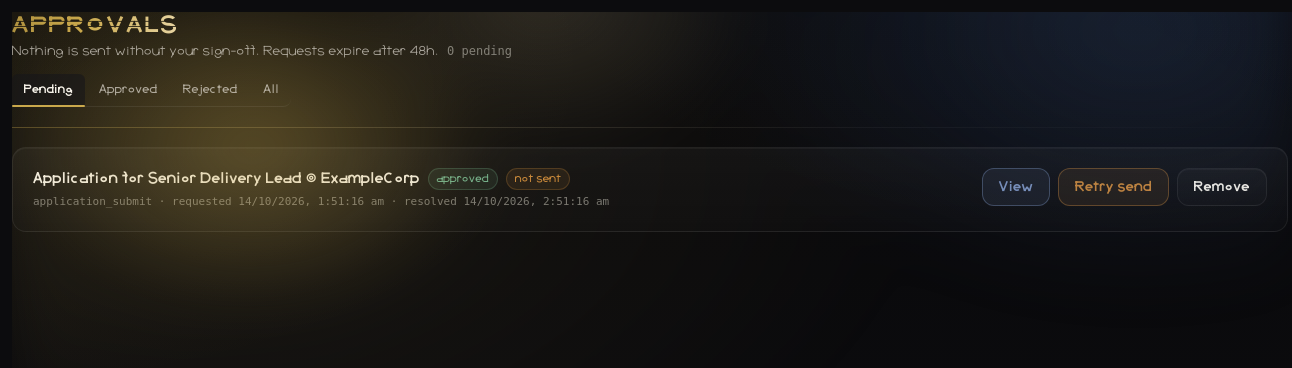
Scenario: a failed send stays visible and is really retryable (MUST-FIX 2) › a 200 manual_step outcome is SHOWN, never rendered as nothing
Click the button with test id "retry-send-btn".
click(1114, 187)  # box [1058, 168, 1169, 206]
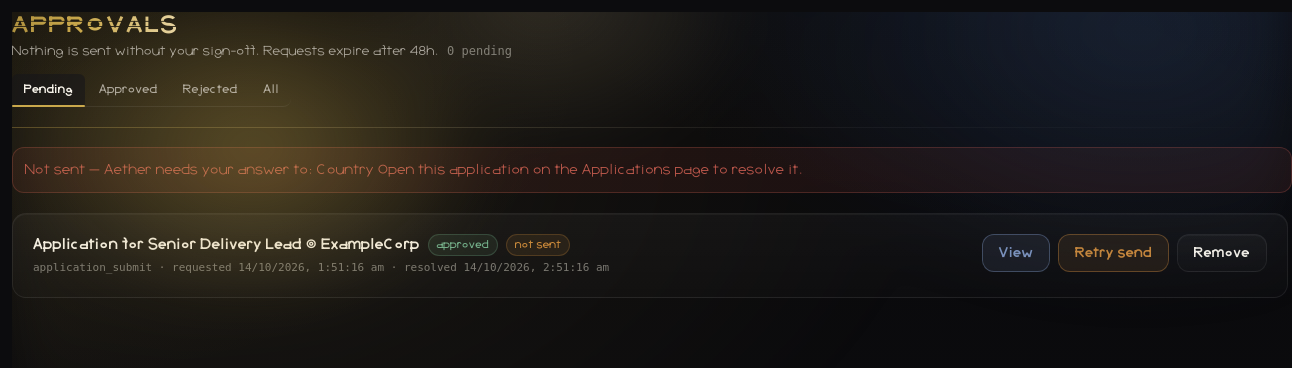
Expected: the message shows "Not sent", [25, 163, 803, 177]
Expected: the message shows "needs your answer to: Country", [25, 163, 803, 177]
Expected: the message shows "applications page", [25, 163, 803, 177]
